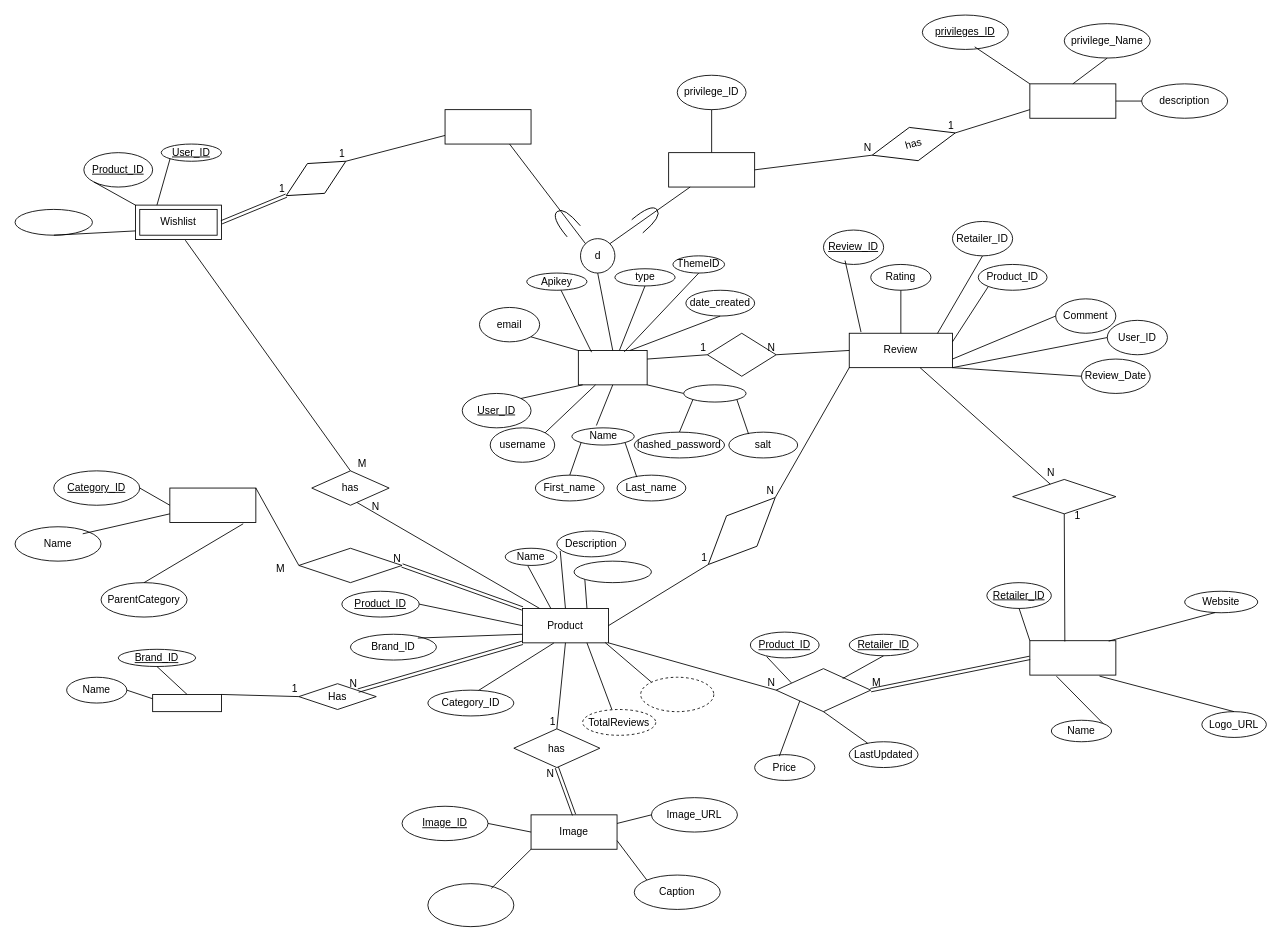
Some shapes in this 1281 by 942 pixel diagram are drawn without their labels. Each missing label, with the box of its shape:
Admin: (668, 152, 755, 187)
Associated: (1012, 479, 1116, 514)
AvgRating: (640, 676, 714, 712)
Belong_to: (298, 547, 402, 583)
Brand: (152, 694, 221, 712)
Category: (169, 487, 256, 522)
Customer: (444, 109, 531, 144)
Date_Added: (14, 209, 92, 235)
keeps_a: (277, 145, 355, 211)
leaves_a: (706, 332, 776, 376)
left-on: (692, 481, 791, 580)
Password: (683, 384, 746, 402)
Privilege: (1029, 83, 1116, 118)
ProductID: (427, 883, 514, 927)
Retailer: (1029, 640, 1116, 675)
Sells: (775, 668, 871, 712)
Specifications: (573, 560, 651, 583)
User: (577, 350, 647, 385)
